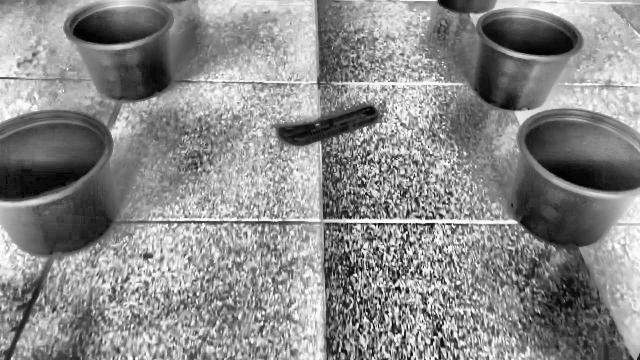pot: (509, 108, 640, 248), (0, 110, 117, 258), (472, 9, 584, 112), (62, 0, 173, 103)
